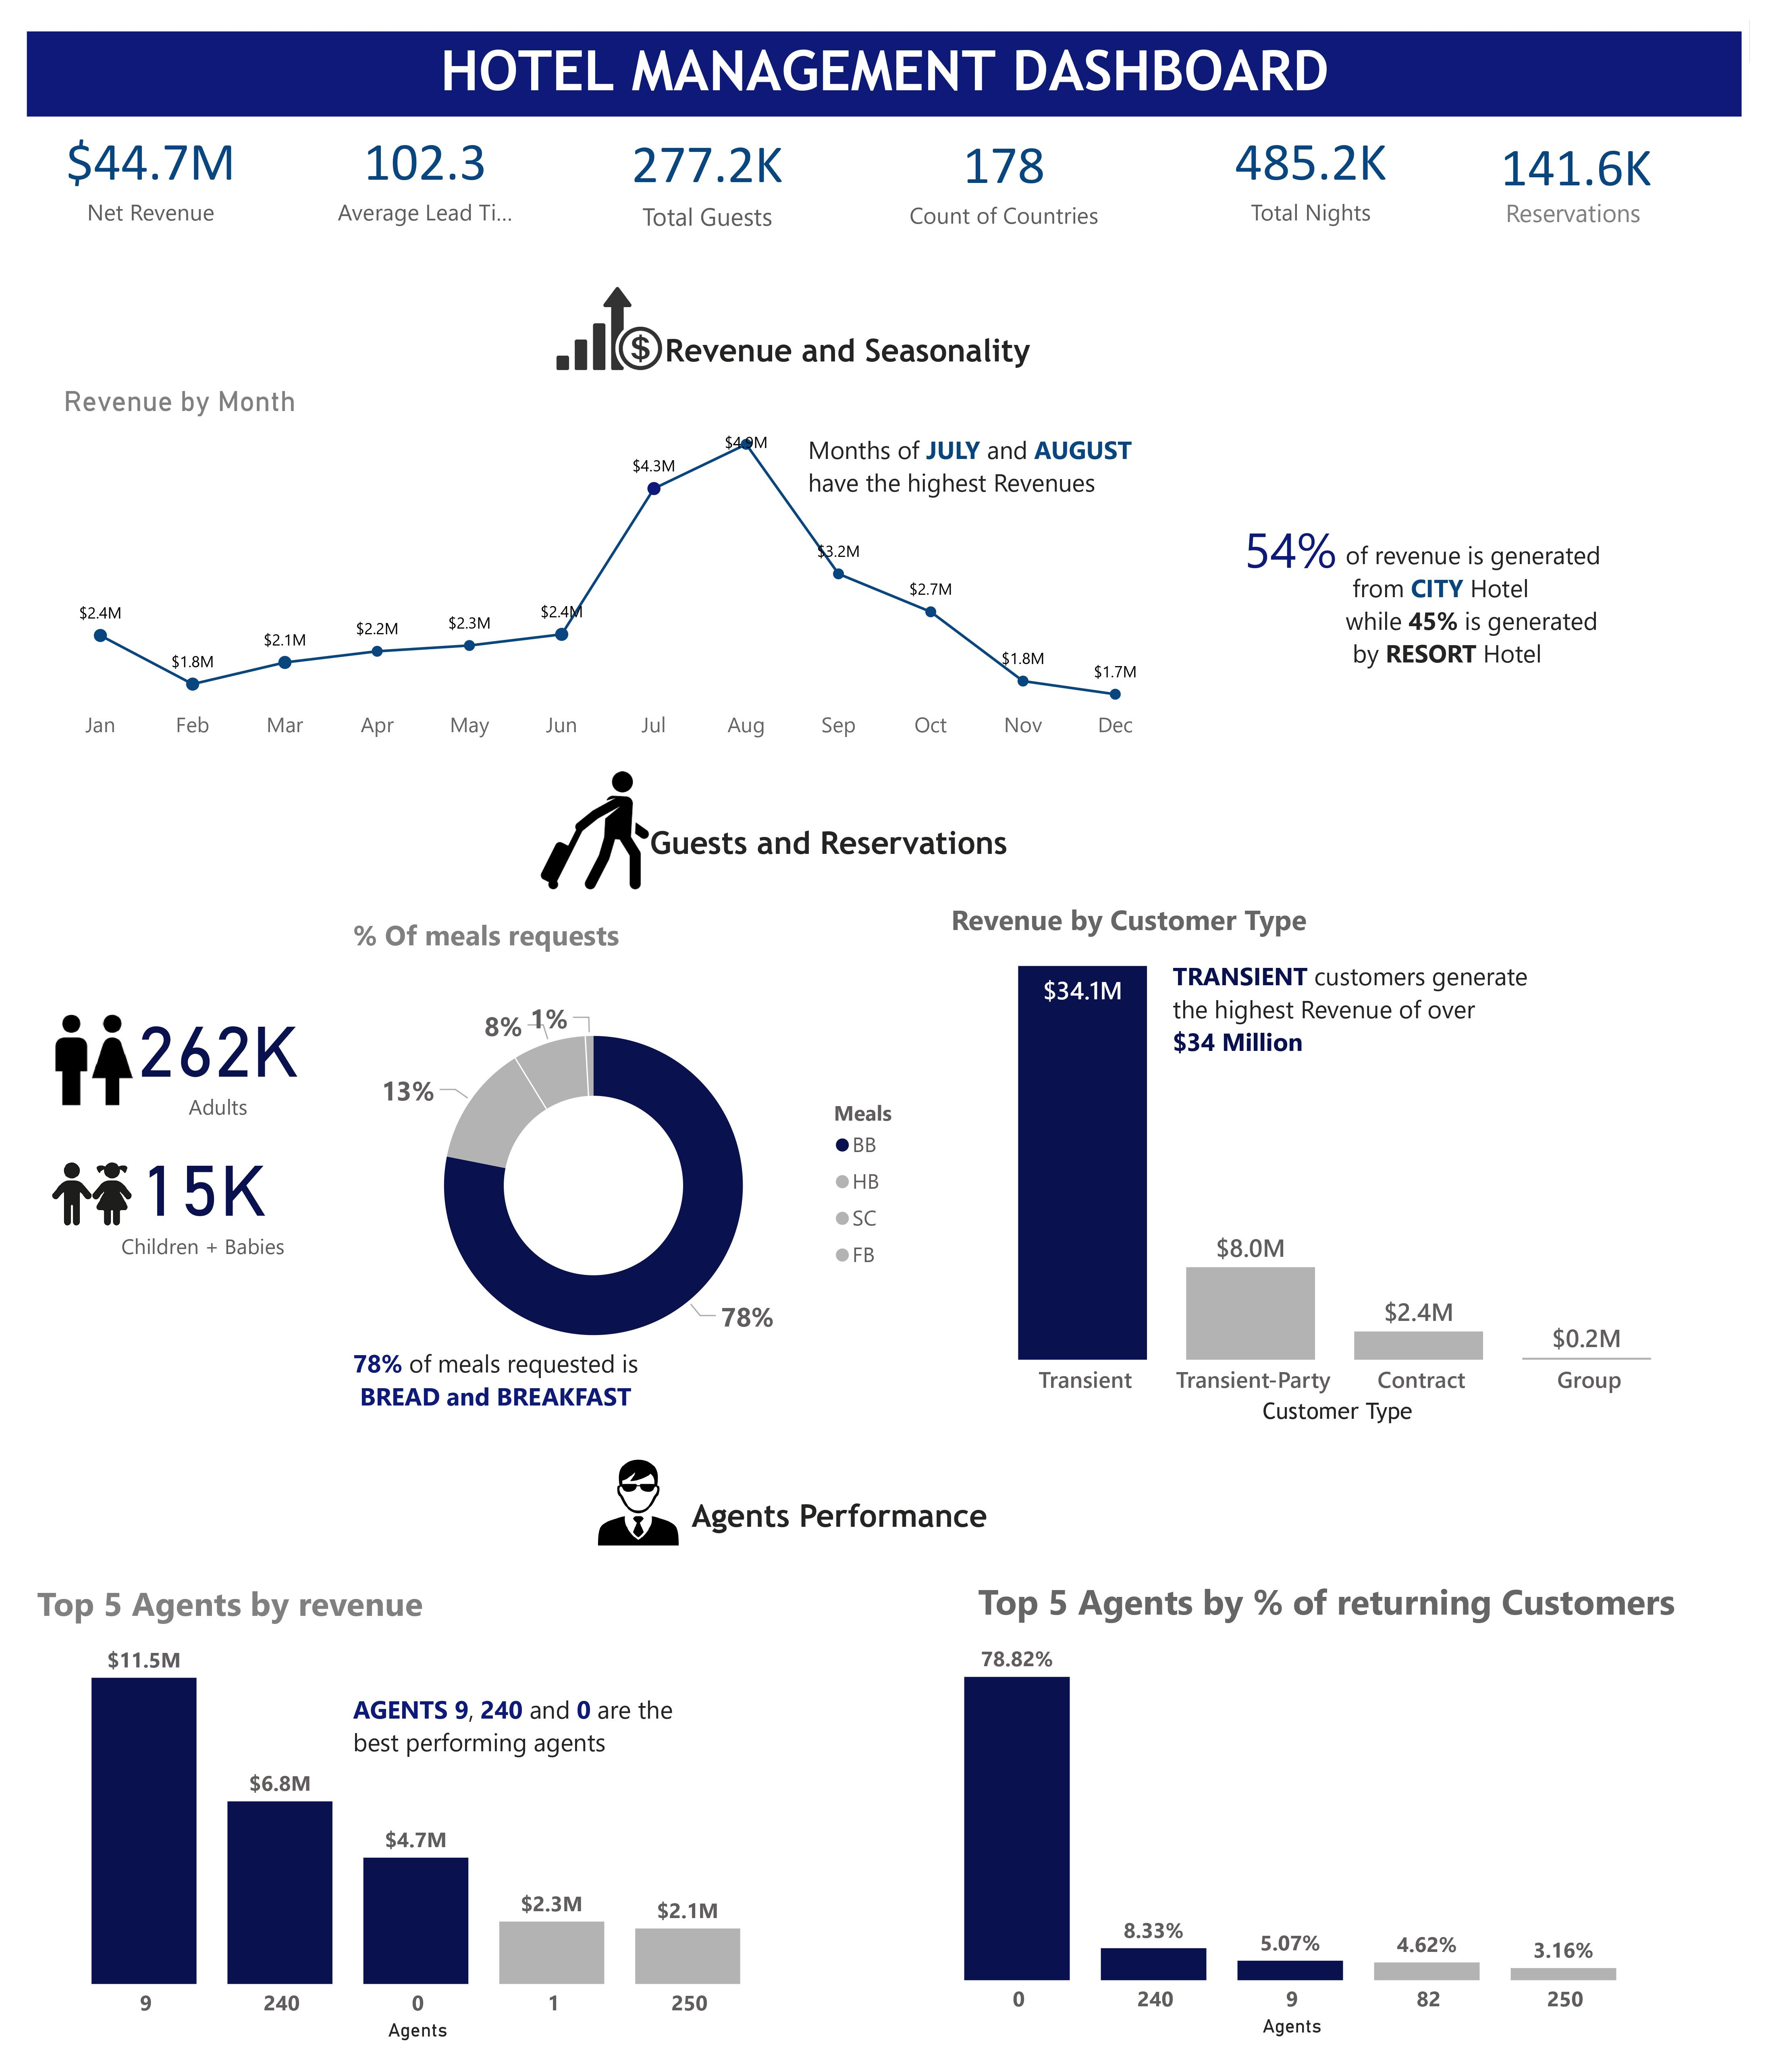

The page's visual inventory and layout, read from the dashboard file:
{"tool":"powerbi","page":{"name":"FINISHED DASHBOARD","canvas":[1310,1550],"ordinal":0},"visuals":[{"type":"textbox","box":[0,8.2,1309.4,65.3],"z":0},{"type":"card","fields":{"Values":["Sum(fct_Hotel Revenue.Net Revenue)"]},"box":[21.3,64,149.3,106.7],"z":1000},{"type":"card","fields":{"Values":["fct_Hotel Revenue.Average Lead Time"]},"box":[229.9,64,149.3,106.7],"z":2000},{"type":"card","fields":{"Values":["fct_Hotel Revenue.Total Guests"]},"box":[445.6,66.4,149.3,106.7],"z":3000},{"type":"card","fields":{"Values":["Count(fct_Hotel Revenue.Countries)"]},"box":[656.1,62.6,176.9,111.6],"z":4000},{"type":"card","fields":{"Values":["Sum(fct_Hotel Revenue.Total Nights)"]},"box":[905.5,64,151.7,106.7],"z":5000},{"type":"card","fields":{"Values":["CountNonNull(fct_Hotel Revenue.Reservation Status Date)"]},"box":[1109.3,56.9,149.3,104.3],"z":6000},{"type":"textbox","box":[1107,130.4,144.6,47.4],"z":7000},{"type":"image","box":[369.8,161.2,149.3,149.3],"z":8000},{"type":"textbox","box":[483.6,232.3,379.3,45],"z":9000},{"type":"lineChart","title":"Revenue by Month","fields":{"Category":["dim_Calendar.MonthShortName"],"Y":["Sum(fct_Hotel Revenue.Net Revenue)"]},"box":[21.8,277.7,841.2,280.4],"z":10000},{"type":"textbox","box":[590.7,310.3,315.8,92.6],"z":11000},{"type":"textbox","box":[922.8,372.9,89.8,59.9],"z":12000},{"type":"textbox","box":[1001.8,389.3,242.3,133.4],"z":13000},{"type":"textbox","box":[470.7,608.5,378.9,45.9],"z":14000},{"type":"textbox","box":[502.3,1122.3,378.9,43.1],"z":15000},{"type":"image","box":[381.8,568.3,103.3,100.5],"z":16000},{"type":"image","box":[307.1,1090.7,318.6,80.4],"z":17000},{"type":"image","box":[2.7,745.9,92.6,95.3],"z":18000},{"type":"image","box":[10.9,843.9,76.2,103.4],"z":19000},{"type":"columnChart","title":"Revenue by Customer Type","fields":{"Category":["dim_Customer Type.Customer Type"],"Y":["Sum(fct_Hotel Revenue.Net Revenue)"]},"box":[700.4,671.7,599.9,404.7],"z":20000},{"type":"card","fields":{"Values":["Sum(fct_Hotel Revenue.Adults)"]},"box":[57.2,718.7,176.9,147],"z":21000},{"type":"card","fields":{"Values":["fct_Hotel Revenue.Children + Babies"]},"box":[46.3,824.8,176.9,147],"z":22000},{"type":"textbox","box":[868.4,713.2,318.5,89.8],"z":23000},{"type":"clusteredColumnChart","title":"Top 5 Agents by revenue","fields":{"Y":["Sum(fct_Hotel Revenue.Net Revenue)"],"Category":["fct_Hotel Revenue.Agents"]},"box":[2.9,1191.2,591.3,355.9],"z":24000},{"type":"clusteredColumnChart","title":"Top 5 Agents by % of returning Customers","fields":{"Category":["fct_Hotel Revenue.Agents"],"Y":["Sum(fct_Hotel Revenue.Returning Guest)"]},"box":[668.8,1188.3,594.2,355.9],"z":25000},{"type":"textbox","box":[244,1271.6,315.7,91.9],"z":26000},{"type":"donutChart","title":"% Of meals requests","fields":{"Y":["CountNonNull(fct_Hotel Revenue.Meals)"],"Category":["fct_Hotel Revenue.Meals"]},"box":[244,683.1,442,384.6],"z":27000},{"type":"textbox","box":[244,1007.5,315.7,91.9],"z":28000}]}

Visuals, with their boxes in screenshot pixels (x1, y1, x2, y2), scaled from the page's 1310x1550 canvas onto the 1770x2072 screenshot:
textbox: detection(0, 11, 1769, 98)
card - Sum(fct_Hotel Revenue.Net Revenue): detection(29, 85, 231, 228)
card - fct_Hotel Revenue.Average Lead Time: detection(311, 85, 512, 228)
card - fct_Hotel Revenue.Total Guests: detection(602, 89, 804, 231)
card - Count(fct_Hotel Revenue.Countries): detection(887, 84, 1126, 233)
card - Sum(fct_Hotel Revenue.Total Nights): detection(1224, 85, 1428, 228)
card - CountNonNull(fct_Hotel Revenue.Reservation Status Date): detection(1499, 76, 1701, 216)
textbox: detection(1496, 174, 1691, 238)
image: detection(500, 216, 701, 415)
textbox: detection(653, 311, 1166, 371)
"Revenue by Month" lineChart: detection(29, 371, 1166, 746)
textbox: detection(798, 415, 1225, 539)
textbox: detection(1247, 498, 1368, 579)
textbox: detection(1354, 520, 1681, 699)
textbox: detection(636, 814, 1148, 875)
textbox: detection(679, 1500, 1190, 1558)
image: detection(516, 760, 655, 894)
image: detection(415, 1458, 846, 1565)
image: detection(4, 997, 129, 1125)
image: detection(15, 1128, 118, 1266)
"Revenue by Customer Type" columnChart: detection(946, 898, 1757, 1439)
card - Sum(fct_Hotel Revenue.Adults): detection(77, 961, 316, 1157)
card - fct_Hotel Revenue.Children + Babies: detection(62, 1102, 301, 1299)
textbox: detection(1173, 953, 1604, 1073)
"Top 5 Agents by revenue" clusteredColumnChart: detection(4, 1592, 803, 2068)
"Top 5 Agents by % of returning Customers" clusteredColumnChart: detection(904, 1588, 1706, 2064)
textbox: detection(330, 1700, 756, 1823)
"% Of meals requests" donutChart: detection(330, 913, 927, 1427)
textbox: detection(330, 1347, 756, 1470)
